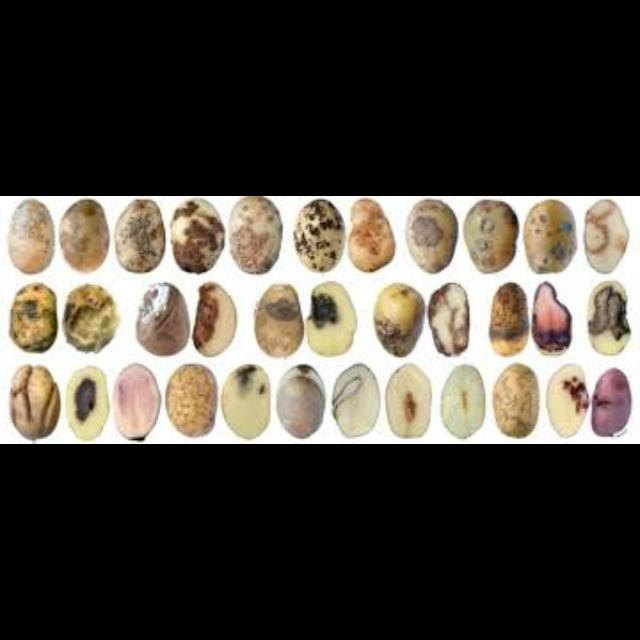Damaged potato: (4, 364, 62, 440)
Defected potato: (586, 363, 638, 441)
Diseased-fungal potato: (0, 196, 60, 280), (132, 278, 190, 364), (166, 196, 226, 278), (419, 278, 477, 362), (58, 282, 119, 360), (226, 196, 284, 278), (302, 279, 360, 361), (216, 358, 274, 440), (184, 283, 246, 359), (342, 196, 398, 280), (326, 362, 384, 442), (4, 280, 64, 356), (401, 197, 459, 275), (462, 198, 520, 276), (522, 200, 580, 278), (271, 361, 329, 439), (108, 362, 162, 444), (372, 281, 426, 361), (485, 364, 541, 440), (56, 198, 110, 276), (582, 198, 634, 278), (540, 362, 592, 442), (292, 198, 346, 274), (250, 282, 304, 358), (481, 278, 532, 358), (112, 200, 164, 278), (525, 282, 575, 362), (167, 361, 217, 441), (584, 280, 634, 358), (384, 362, 434, 440), (437, 364, 488, 440), (63, 368, 111, 440)
